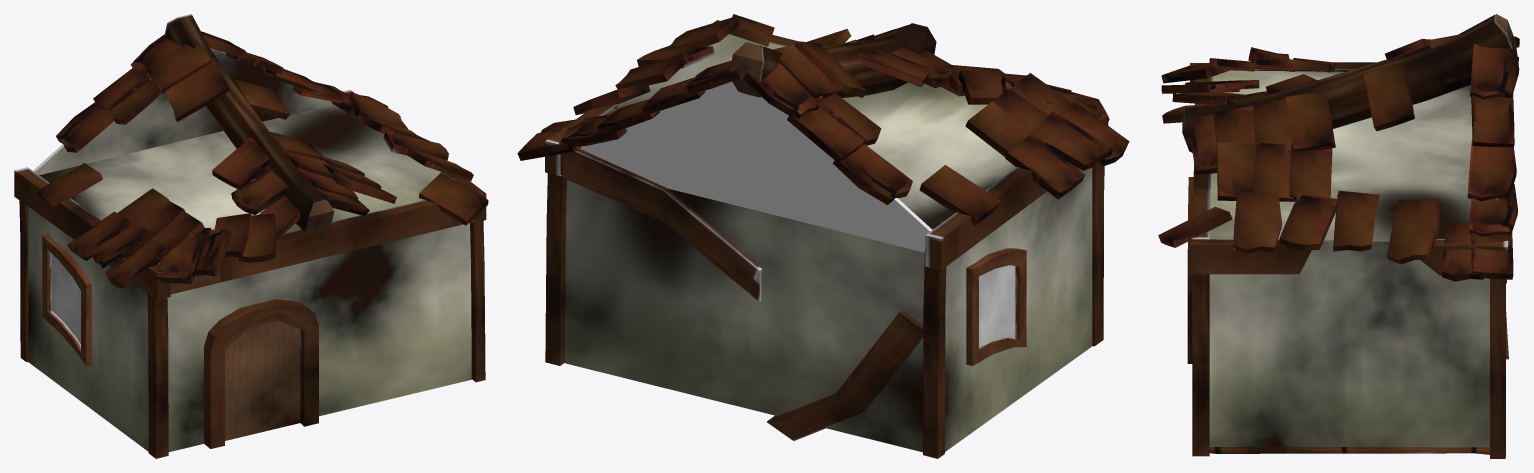
File: casa1.fbx
3 renders of one model, left to right at view 1: azimuth 30°, elevation 25°; view 2: azimuth 150°, elevation 25°; view 3: azimuth 270°, elevation 25°, orthographic. The views are drawn at different scales.
Visible parts, largest first — view 1: LOD_0; view 2: LOD_0; view 3: LOD_0.
Boxes of the visible parts, box(x1,y1,x2,y2) form: LOD_0: box(14, 14, 488, 458); LOD_0: box(517, 14, 1129, 458); LOD_0: box(1158, 14, 1519, 458).
Size of what is drawn, in the model's own units: 215 by 169 by 153.
